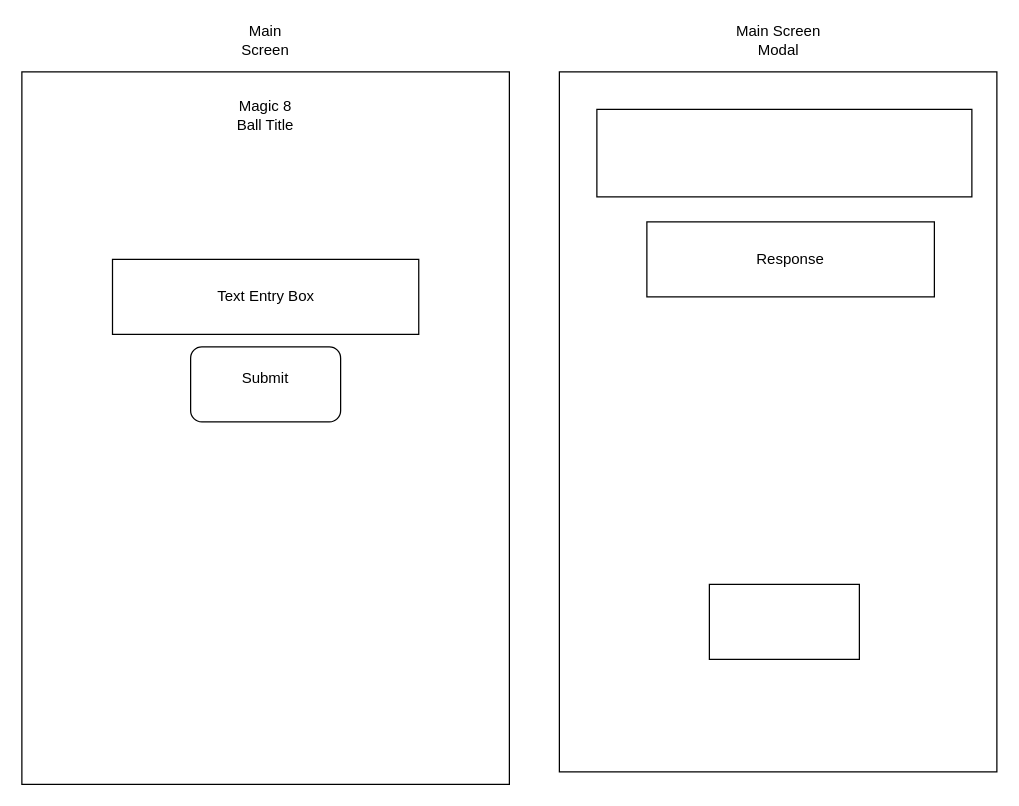
The diagram is 1019 pixels wide and 806 high, and some of its shapes have lost their labels. Each missing label, with the box of its shape:
Close: (708, 583, 859, 659)
User Question: (596, 108, 972, 197)
